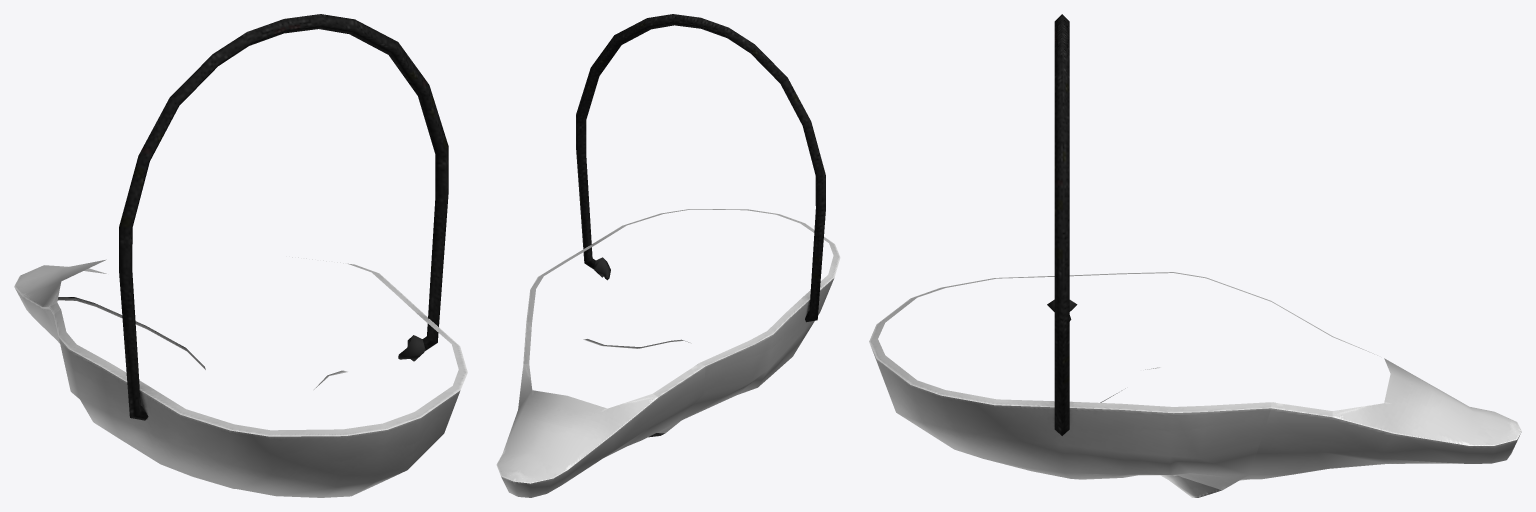
The model's file is boo_old.glb.
3 views of the same model, side by side, from view 1: azimuth 30°, elevation 25°; view 2: azimuth 150°, elevation 25°; view 3: azimuth 270°, elevation 25° (orthographic). The views are drawn at different scales.
Visible parts, largest first — view 1: Scare; view 2: Scare; view 3: Scare.
Part boxes in pixels (x1=…): Scare: x1=14, y1=14, x2=467, y2=497; Scare: x1=496, y1=14, x2=840, y2=497; Scare: x1=869, y1=14, x2=1521, y2=497.
Size of the model in its own units: 0.1784 by 0.2598 by 0.3285.
1 material, 1 textured.
